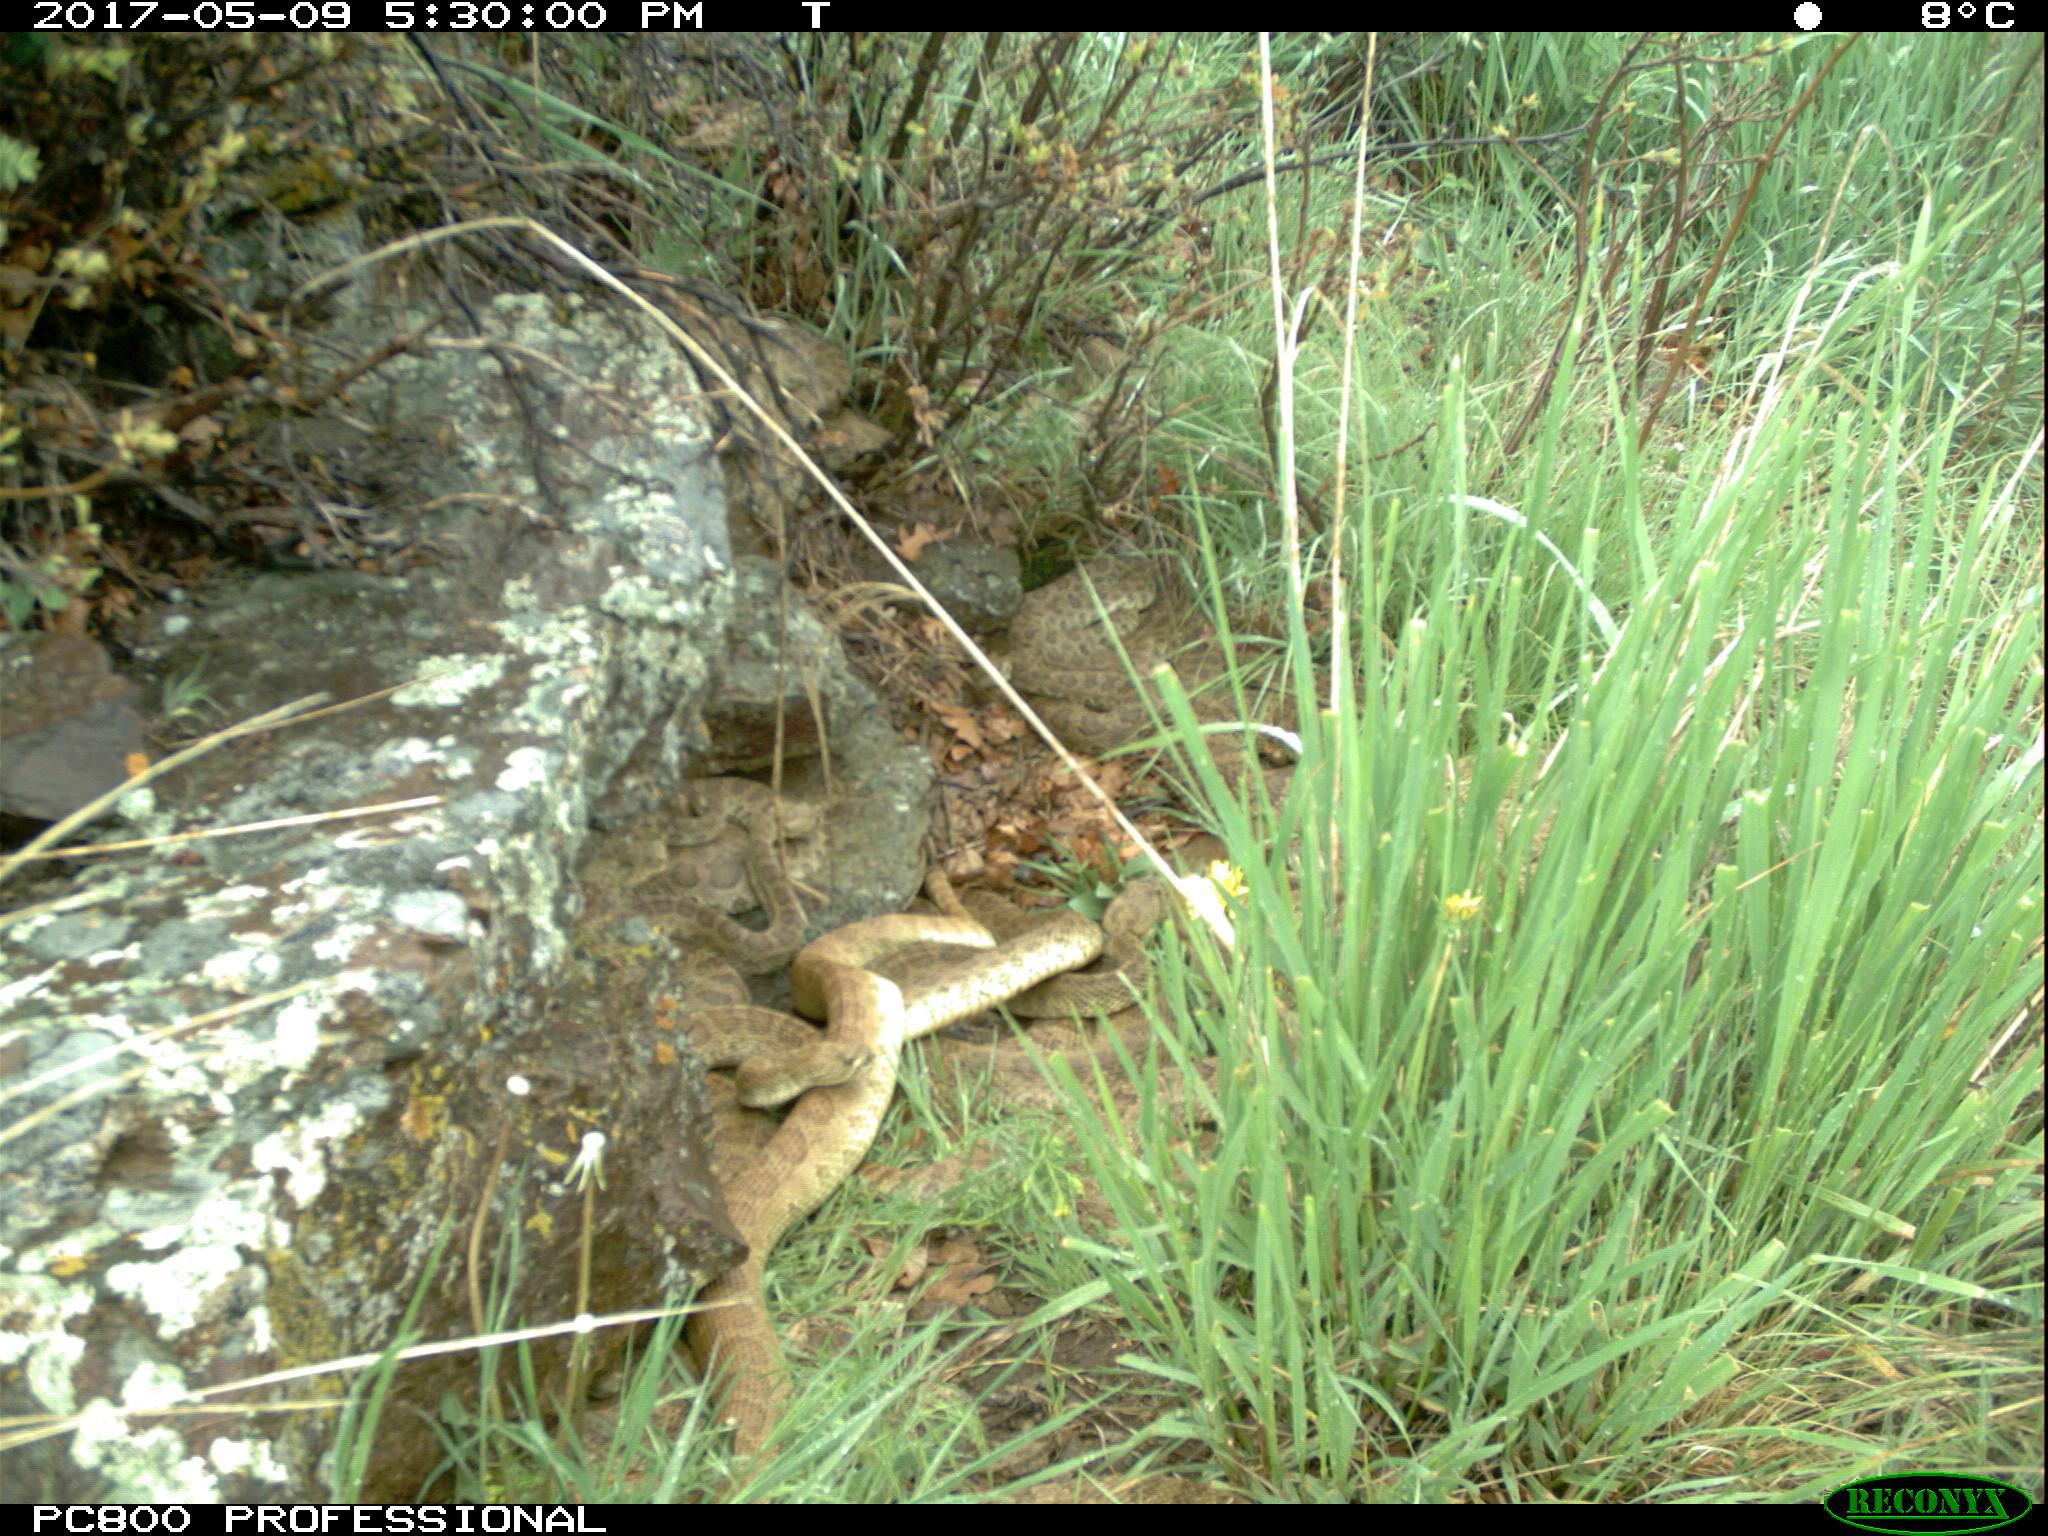snake: (685, 871, 998, 1118), (690, 1120, 868, 1467), (1009, 549, 1216, 737), (913, 874, 1174, 1020), (651, 766, 808, 981)
